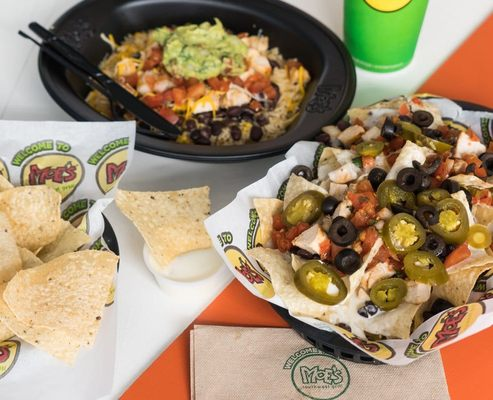curry: (162, 19, 249, 81)
pizza: (343, 0, 431, 74)
salad: (222, 244, 393, 365)
sandwich: (222, 243, 395, 364)
soup: (0, 249, 119, 366)
sushi: (36, 1, 356, 156)
